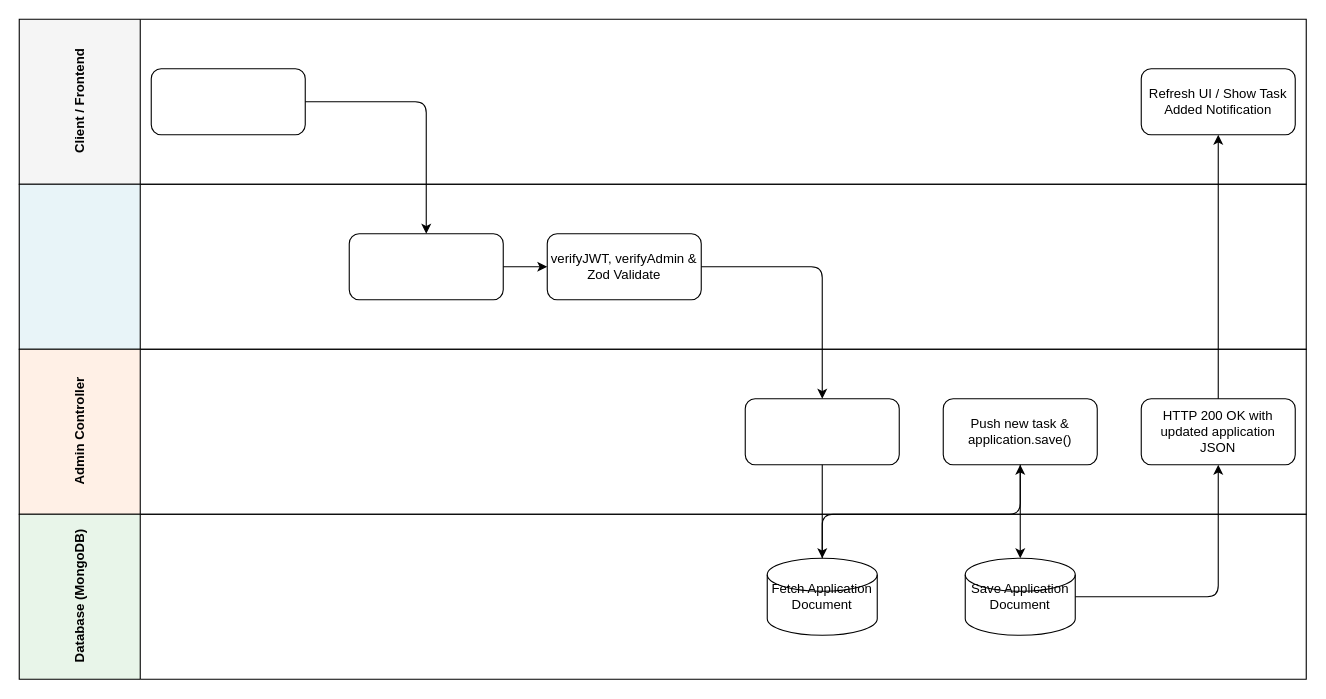
Some shapes in this 1326 by 699 pixel diagram are drawn without their labels. The shapes that lost their labels are listed below. From the top down, each one's box as (x1, y1, x2, y2) in pixels, then its label:
(150, 68, 305, 135): Admin fills Assign Task Modal & submits
(348, 233, 503, 300): POST /admin/application/:applicationId/tasks
(18, 183, 1306, 349): Router & Middleware
(744, 398, 899, 465): Application.findById(applicationId)
